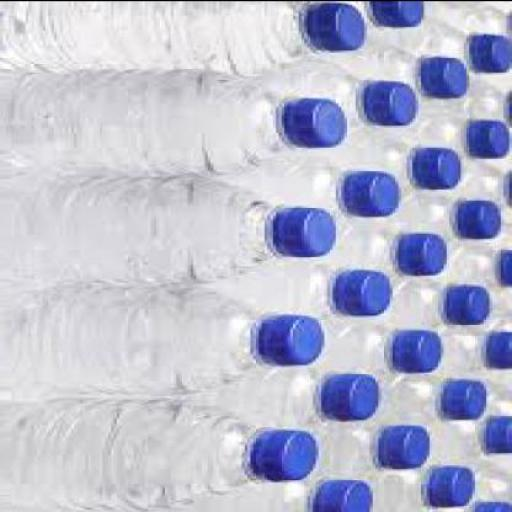plastic: (3, 71, 350, 181), (2, 395, 322, 511), (6, 176, 339, 287), (2, 287, 328, 397), (3, 2, 372, 77), (218, 254, 396, 331), (210, 359, 384, 435), (248, 148, 398, 231), (324, 309, 444, 395), (282, 58, 421, 132), (182, 463, 377, 511), (370, 39, 469, 130), (336, 218, 452, 293), (369, 16, 511, 76), (319, 42, 469, 98), (313, 415, 433, 482), (347, 134, 464, 201), (412, 107, 511, 165), (404, 192, 503, 249), (396, 276, 492, 333), (384, 373, 490, 421), (430, 16, 510, 79), (375, 464, 479, 511), (430, 412, 510, 466), (253, 428, 322, 482), (443, 322, 511, 376), (298, 2, 368, 51), (262, 314, 324, 368), (350, 2, 427, 44), (284, 99, 350, 148), (426, 0, 511, 37), (426, 0, 511, 36), (274, 206, 332, 258), (336, 269, 395, 316), (324, 376, 384, 422), (452, 245, 512, 290), (460, 162, 511, 213), (347, 172, 404, 216), (412, 145, 464, 190), (367, 81, 418, 126), (392, 331, 446, 373), (470, 76, 512, 128), (398, 234, 452, 274), (430, 464, 475, 508), (424, 54, 470, 96), (438, 379, 486, 419), (384, 430, 430, 470), (318, 480, 376, 511), (471, 31, 511, 74), (458, 202, 503, 240), (447, 286, 492, 324), (470, 119, 512, 159), (471, 462, 511, 500), (372, 2, 424, 29), (486, 415, 511, 458), (486, 334, 511, 369), (471, 501, 512, 511), (501, 250, 511, 288), (503, 170, 511, 207), (503, 91, 511, 124)
